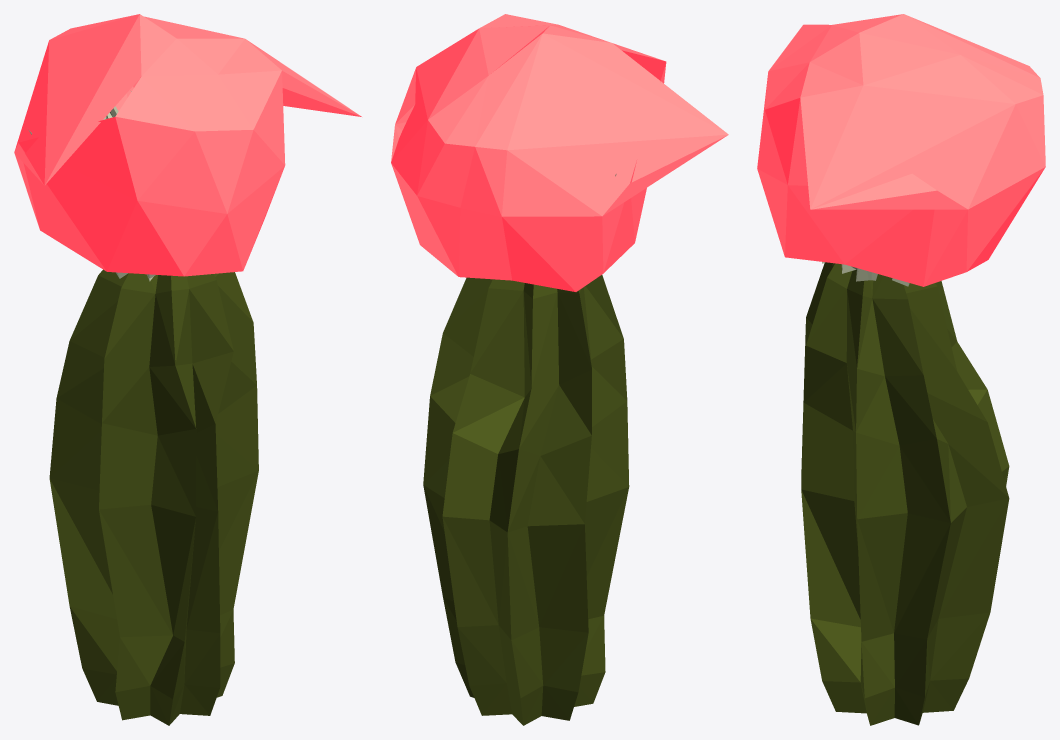
Rendered from very-glowy-pink-cactus.fbx.
The picture shows the model from 3 angles, left to right: view 1: azimuth 30°, elevation 25°; view 2: azimuth 150°, elevation 25°; view 3: azimuth 270°, elevation 25°; orthographic projection.
Parts seen in each view (by area): view 1: Icosphere.003; view 2: Icosphere.003; view 3: Icosphere.003.
Part boxes in pixels (<box>): Icosphere.003: <box>14,14,361,725</box>; Icosphere.003: <box>391,14,728,725</box>; Icosphere.003: <box>757,14,1045,725</box>.
Bounding box in the file's own units: 184 × 380 × 146.
